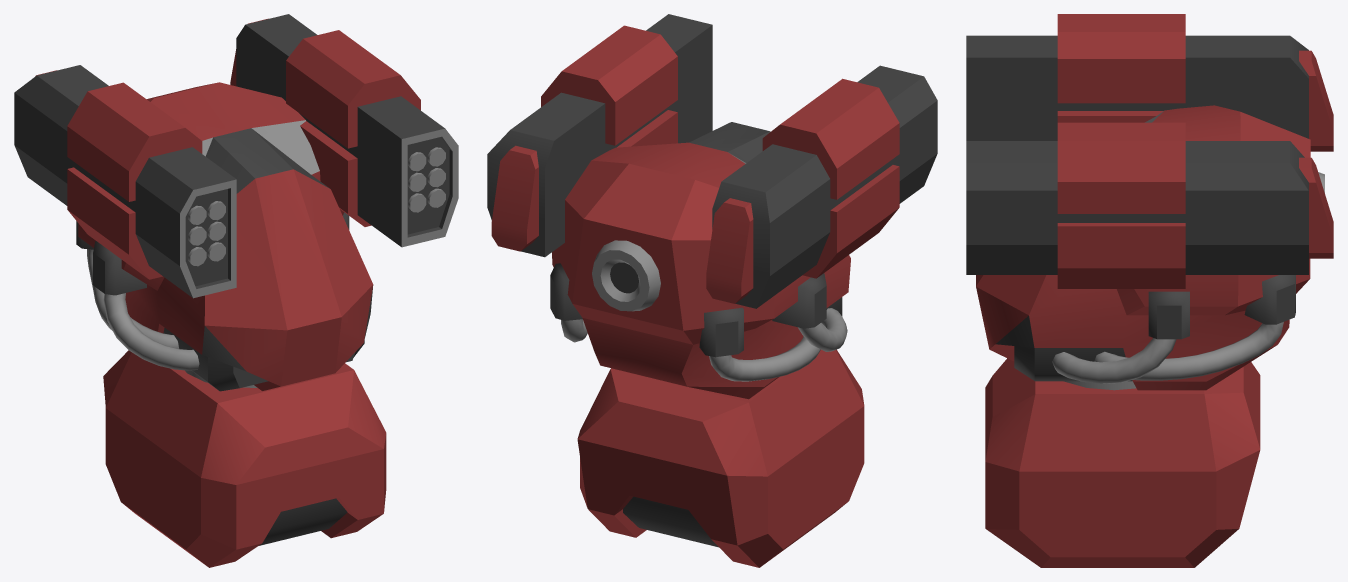
File: Robot_base.fbx
The picture shows the model from 3 angles, left to right: view 1: azimuth 30°, elevation 25°; view 2: azimuth 150°, elevation 25°; view 3: azimuth 270°, elevation 25°; orthographic projection. The views are drawn at different scales.
Visible parts, largest first — view 1: body.004, pelvis.004; view 2: body.004, pelvis.004; view 3: body.004, pelvis.004.
Part boxes in pixels (x1,y1,x2,y2): body.004: [14, 14, 458, 391]; pelvis.004: [103, 350, 386, 567]; body.004: [487, 14, 937, 399]; pelvis.004: [577, 349, 864, 567]; body.004: [966, 14, 1333, 390]; pelvis.004: [985, 358, 1260, 567].
Bounding box in the file's own units: 53.3 × 76.41 × 56.1.
